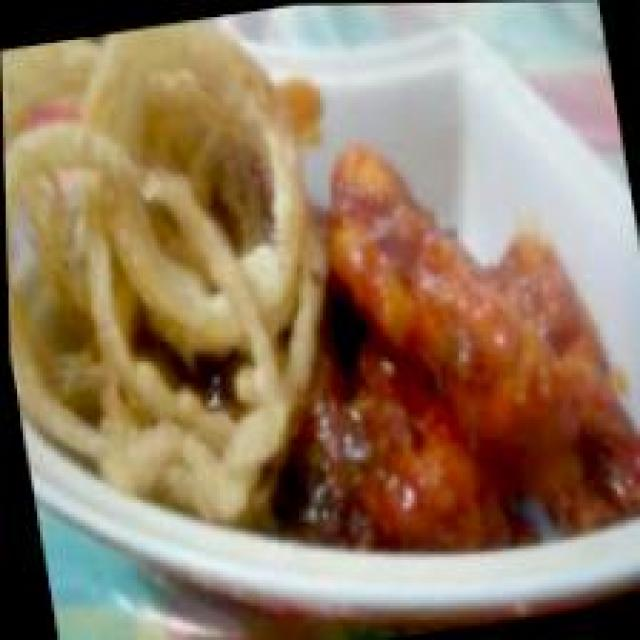Chicken Wings: (246, 103, 640, 580)
Onion Rings: (0, 3, 400, 551)
